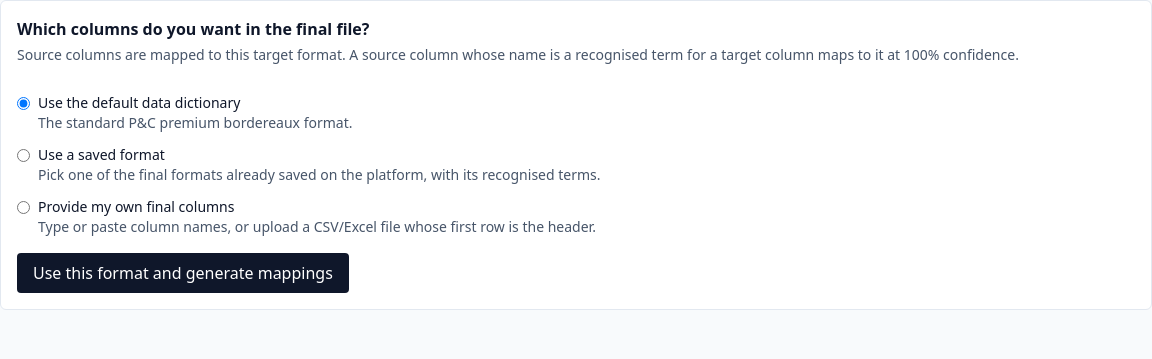
TargetFormatChooser › says so when there are no saved formats, and cannot be confirmed
Step 1. Click the radio button labelled "Use a saved format" → (24, 156), box [17,149,30,162]
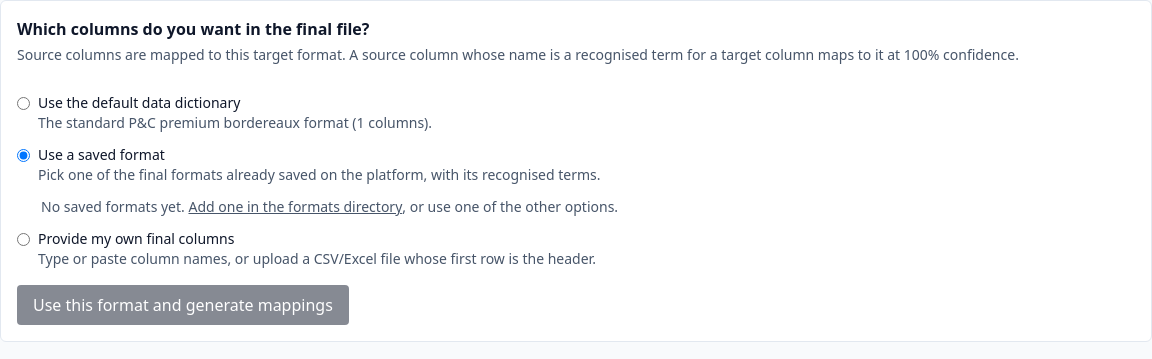
expect the text "No saved formats yet" is shown: met, box [41,197,185,216]
expect the button "Use this format and generate mappings" is disabled: met, box [17,285,349,325]
